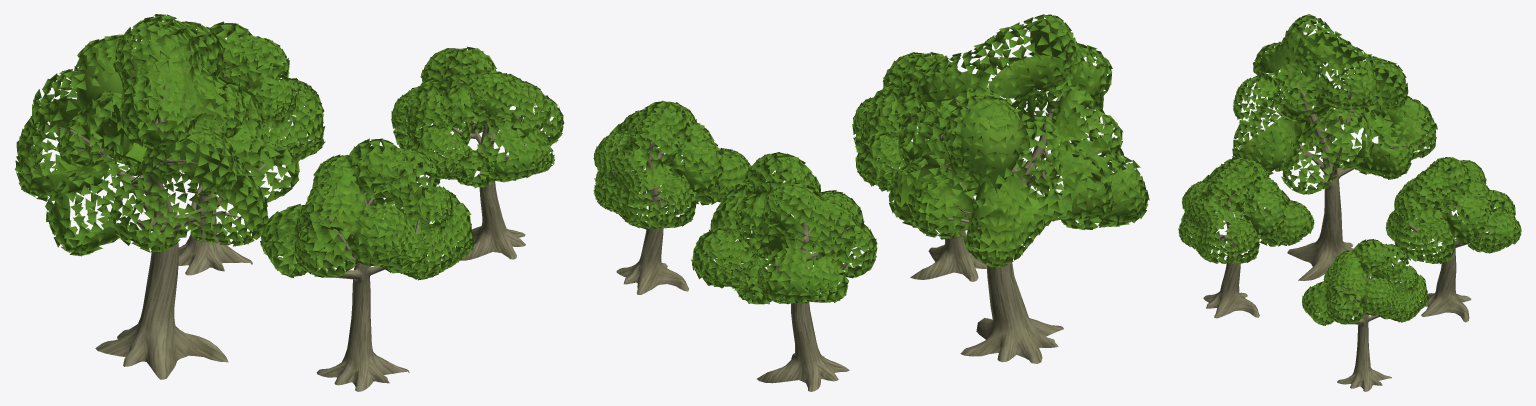
File: SM_ENV_LKNVLD_TreeSet_E.FBX
The picture shows the model from 3 angles, left to right: view 1: azimuth 30°, elevation 25°; view 2: azimuth 150°, elevation 25°; view 3: azimuth 270°, elevation 25°; orthographic projection. The views are drawn at different scales.
Parts seen in each view (by area): view 1: SM_ENV_LKNVLD_TreeSet_E; view 2: SM_ENV_LKNVLD_TreeSet_E; view 3: SM_ENV_LKNVLD_TreeSet_E.
Boxes of the visible parts, <box> form: SM_ENV_LKNVLD_TreeSet_E: <box>14,14,564,391</box>; SM_ENV_LKNVLD_TreeSet_E: <box>593,14,1149,391</box>; SM_ENV_LKNVLD_TreeSet_E: <box>1178,14,1521,391</box>.
Size of the model in its own units: 2251 by 1396 by 1807.
